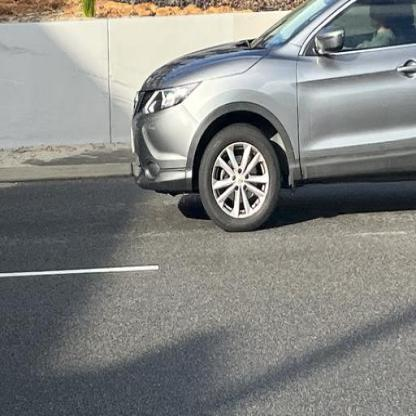Tire: (199, 123, 281, 233)
